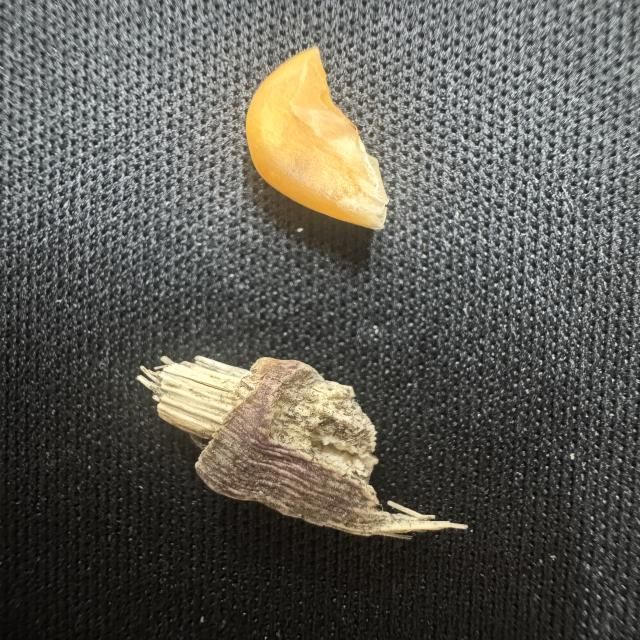Bad-Seed: (131, 342, 475, 548), (241, 41, 400, 238)
